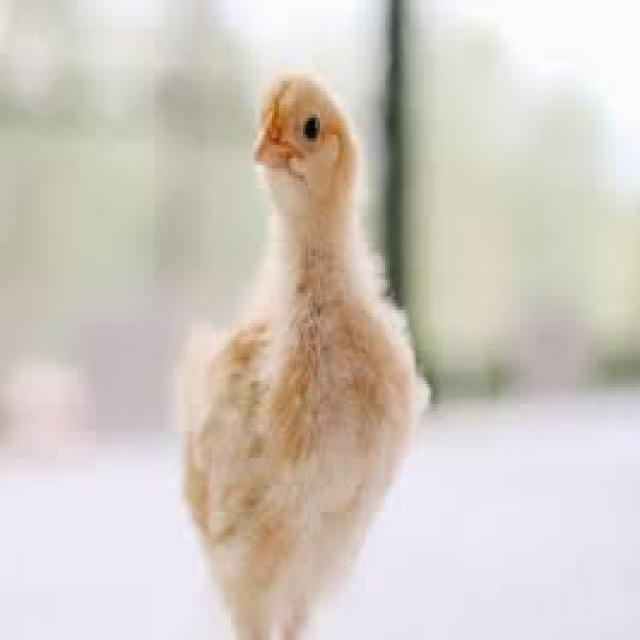poussin: (161, 61, 440, 640)
